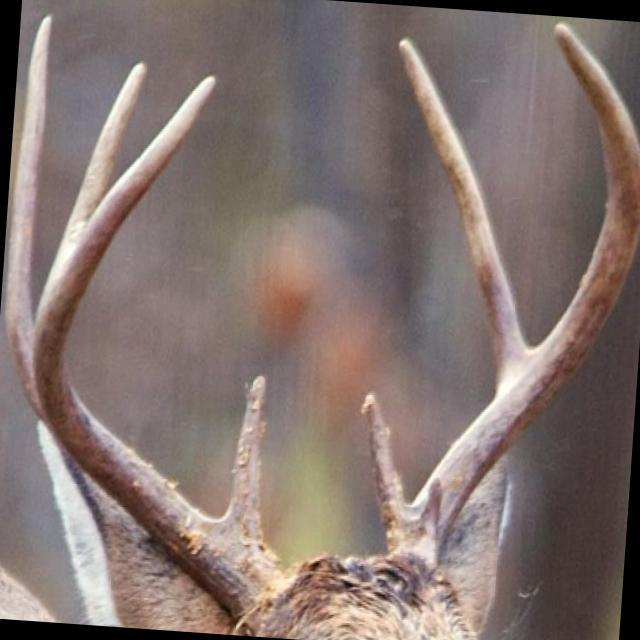L-F: (389, 19, 640, 572)
L-G1: (358, 390, 409, 536)
L-G2: (397, 35, 530, 383)
R-F: (32, 74, 286, 636)
R-G1: (222, 373, 267, 536)
R-G2: (3, 14, 58, 438)
R-G3: (65, 60, 145, 235)
